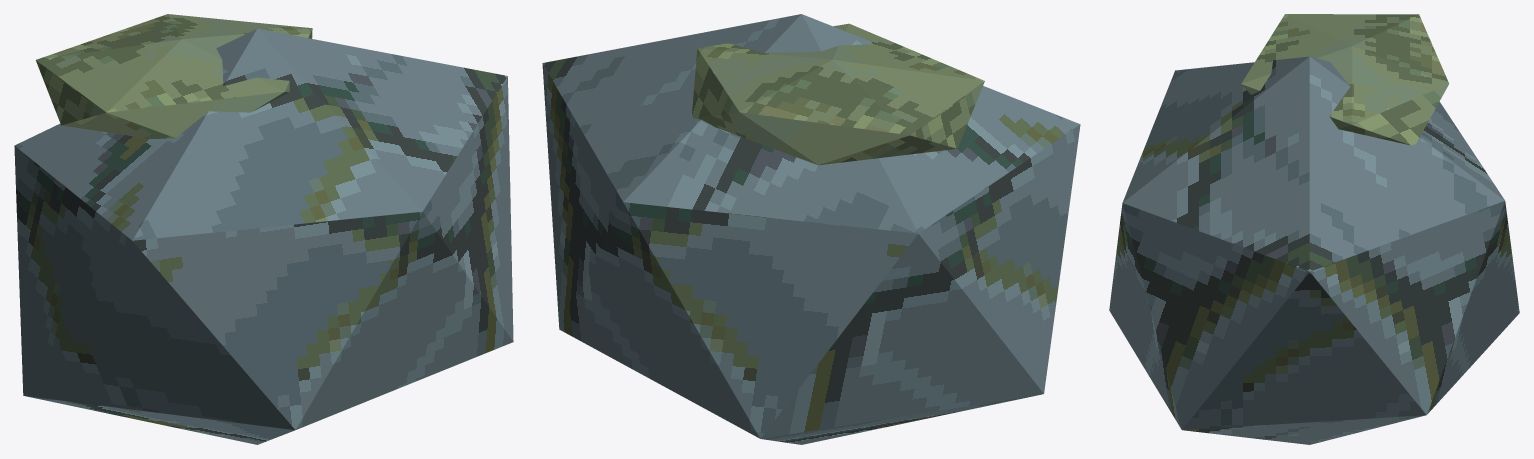
File: pedra.glb
3 views of the same model, side by side, from view 1: azimuth 30°, elevation 25°; view 2: azimuth 150°, elevation 25°; view 3: azimuth 270°, elevation 25° (orthographic). The views are drawn at different scales.
Parts seen in each view (by area): view 1: bosque_pedra; view 2: bosque_pedra; view 3: bosque_pedra.
Boxes of the visible parts, x1,y1,x2,y2 form: bosque_pedra: (14, 14, 513, 444); bosque_pedra: (542, 14, 1080, 444); bosque_pedra: (1109, 14, 1519, 444).
Size of the model in its own units: 0.7353 by 0.6037 by 0.5782.
2 materials, 2 textured.
